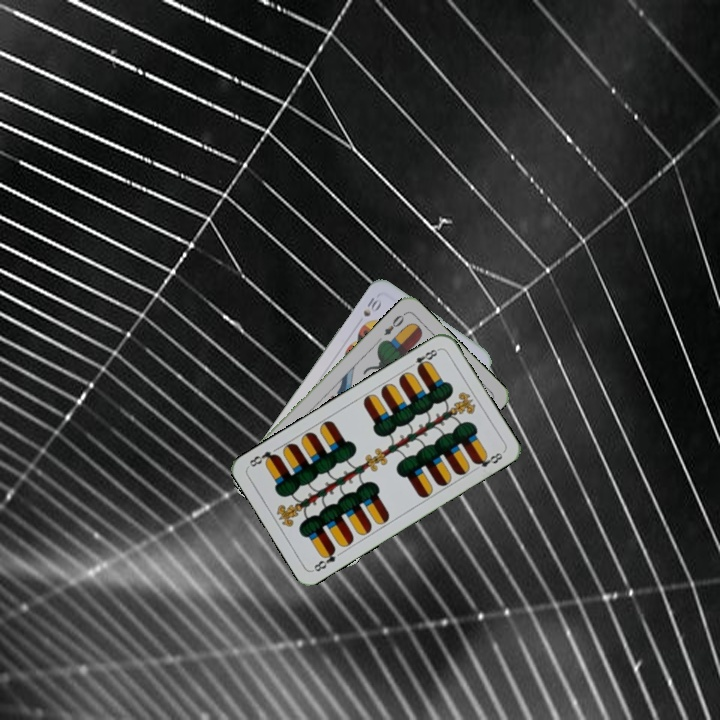E8: (405, 345, 442, 373), (309, 544, 339, 574)
EO: (380, 309, 409, 338)
S10: (359, 293, 384, 319)
